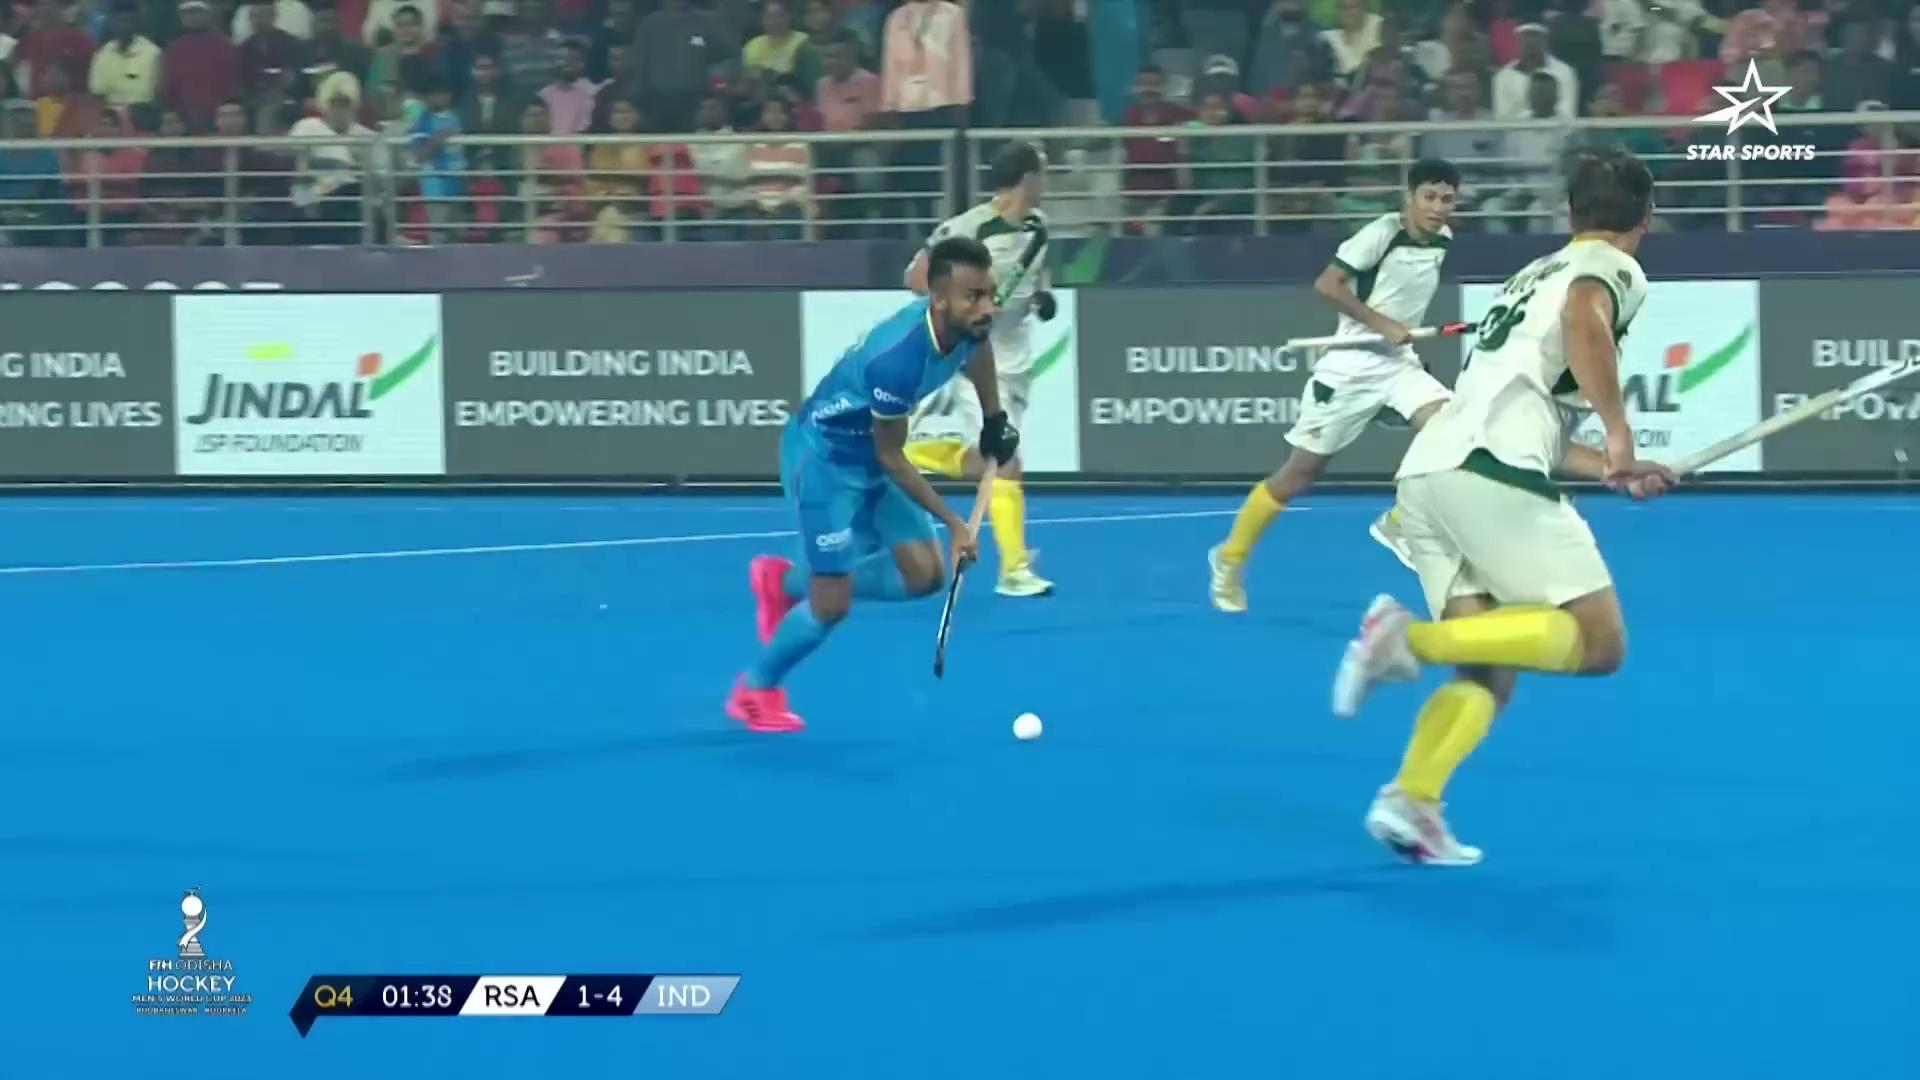ball: (1001, 702, 1065, 757)
